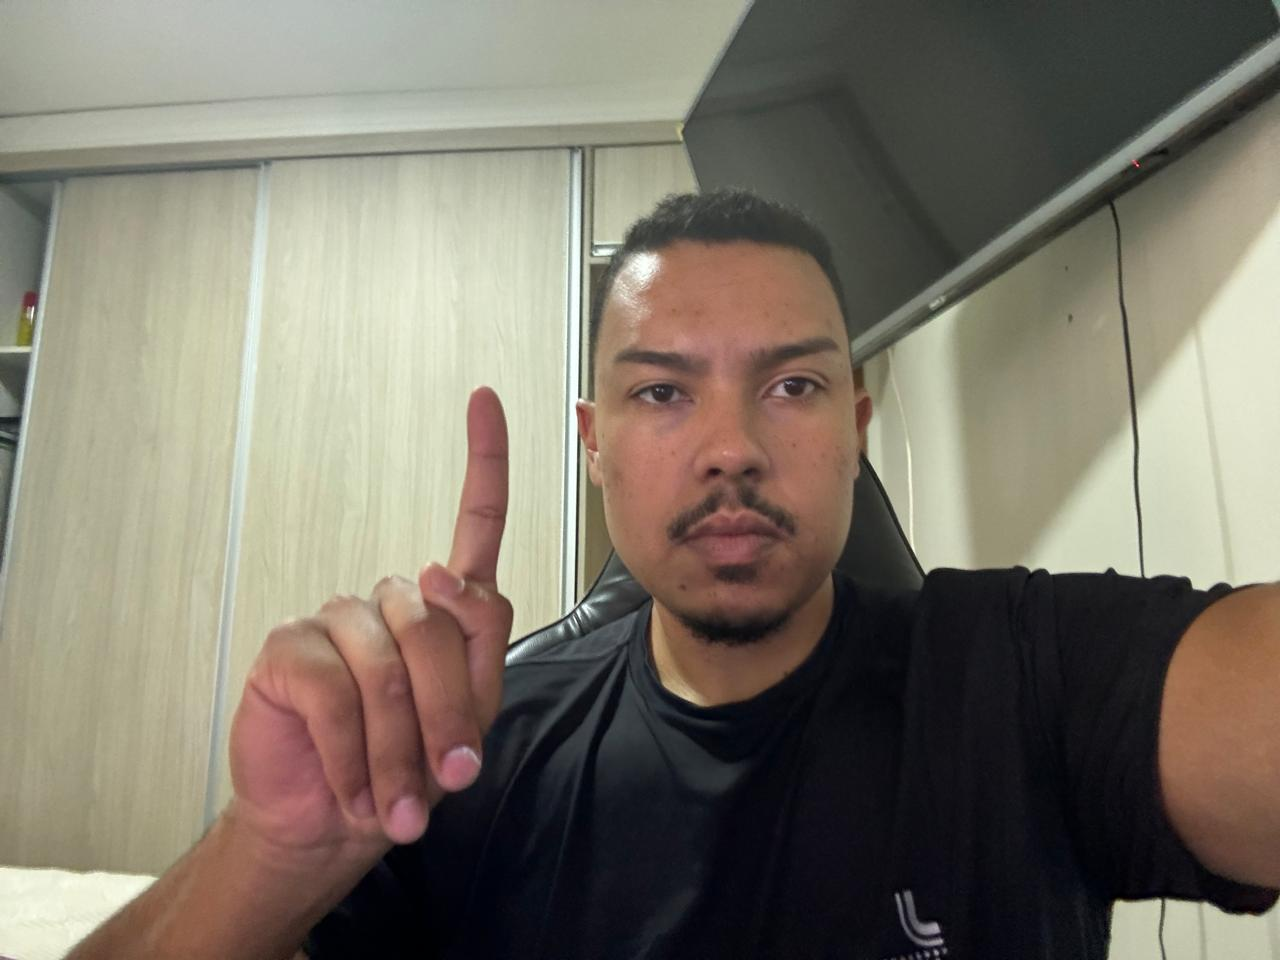z: (221, 379, 522, 873)
